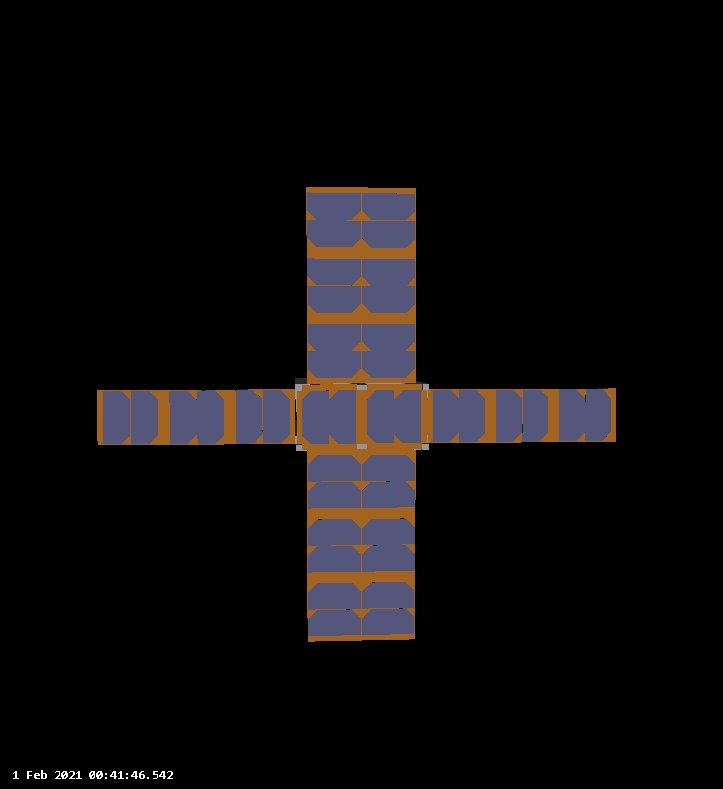solar: (304, 187, 419, 252), (305, 320, 418, 383), (305, 255, 419, 316), (305, 515, 418, 573), (306, 579, 418, 637), (306, 455, 417, 511), (301, 386, 360, 447), (364, 388, 425, 447), (166, 388, 228, 445), (233, 387, 292, 446), (101, 389, 161, 447), (432, 387, 488, 444), (494, 387, 550, 444), (557, 387, 611, 444)
